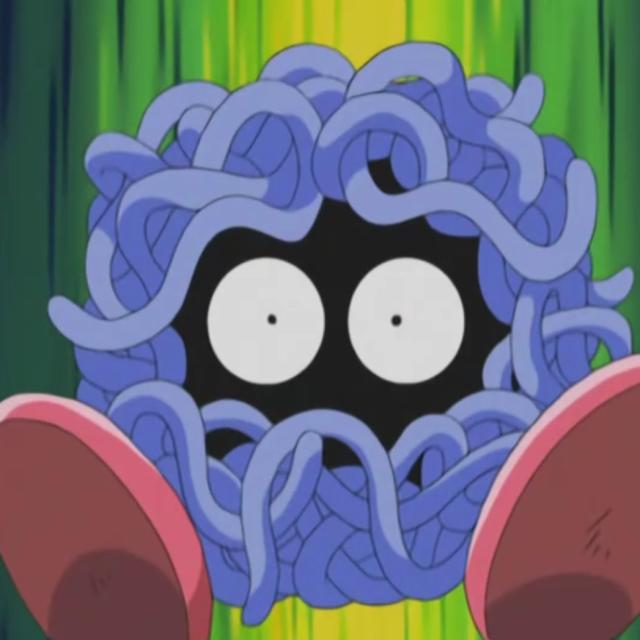Tangela: (55, 68, 640, 636)
